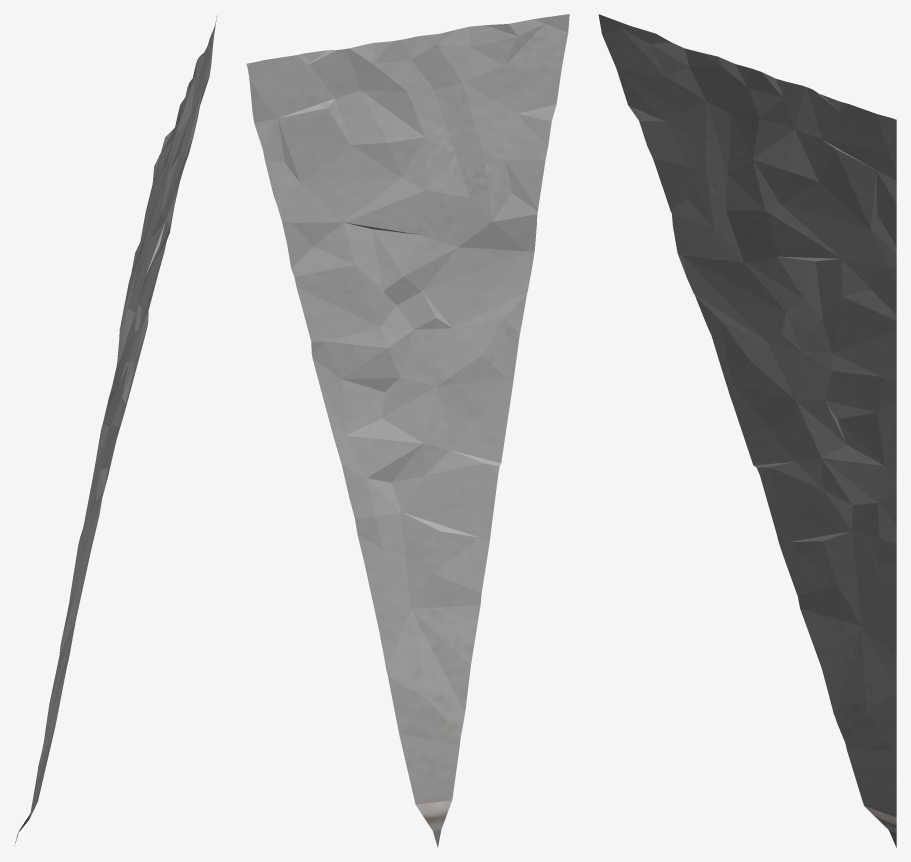
3 renders of one model, left to right at view 1: azimuth 30°, elevation 25°; view 2: azimuth 150°, elevation 25°; view 3: azimuth 270°, elevation 25°, orthographic. The views are drawn at different scales.
Bounding box in the file's own units: 0.2243 × 0.8248 × 0.2671.
1 material, 1 textured.
